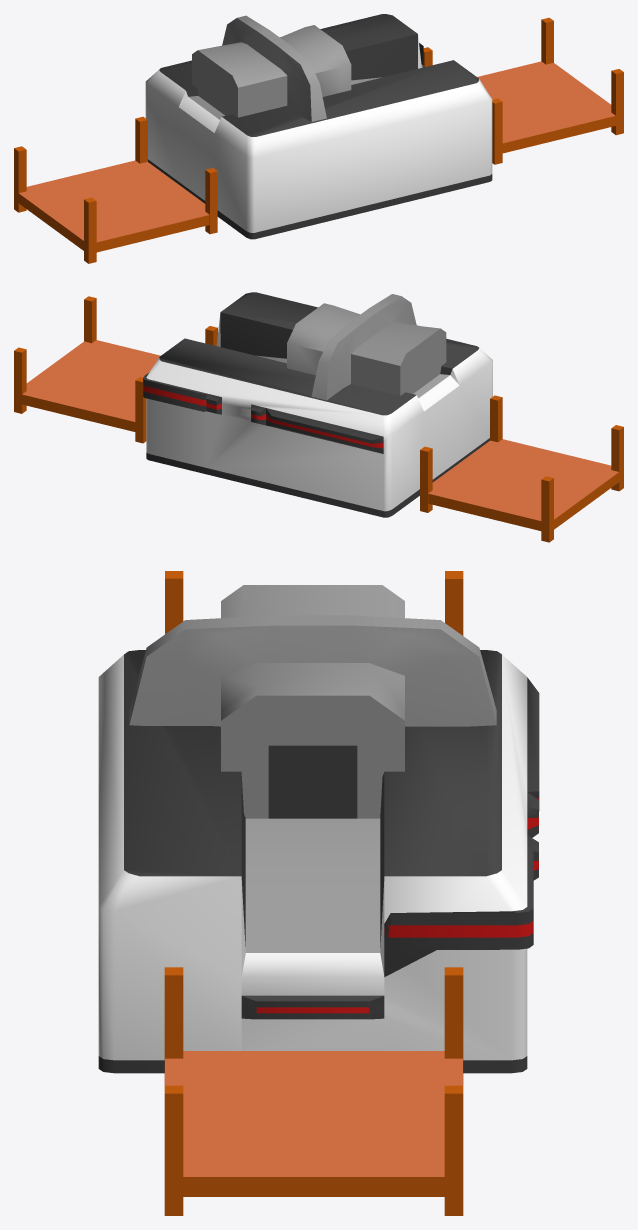
Rendered from MachineToolAuto.fbx.
The picture shows the model from 3 angles, top to bottom: view 1: azimuth 30°, elevation 25°; view 2: azimuth 150°, elevation 25°; view 3: azimuth 270°, elevation 25°; orthographic projection. The views are drawn at different scales.
Parts seen in each view (by area): view 1: MachineToolAutomatic.002, MachineToolAutomatic.003, MachineToolAutomatic.004; view 2: MachineToolAutomatic.002, MachineToolAutomatic.003, MachineToolAutomatic.004; view 3: MachineToolAutomatic.002, MachineToolAutomatic.004, MachineToolAutomatic.003.
Boxes of the visible parts, x1,y1,x2,y2 form: MachineToolAutomatic.002: (145, 14, 492, 239); MachineToolAutomatic.003: (14, 116, 217, 263); MachineToolAutomatic.004: (423, 17, 623, 164); MachineToolAutomatic.002: (143, 292, 492, 517); MachineToolAutomatic.003: (420, 395, 623, 542); MachineToolAutomatic.004: (14, 296, 217, 443); MachineToolAutomatic.002: (98, 585, 539, 1073); MachineToolAutomatic.004: (164, 967, 463, 1215); MachineToolAutomatic.003: (165, 571, 463, 635).
Bounding box in the file's own units: 3898 × 1007 × 1388.
